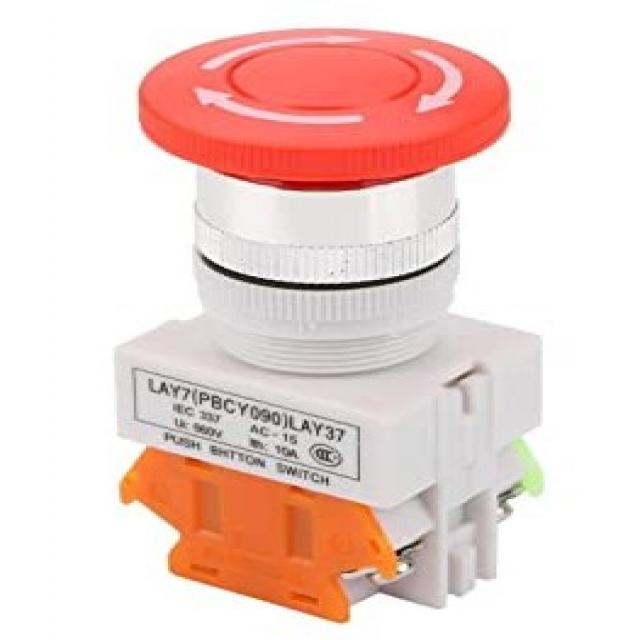safety switch: (127, 31, 513, 288)
